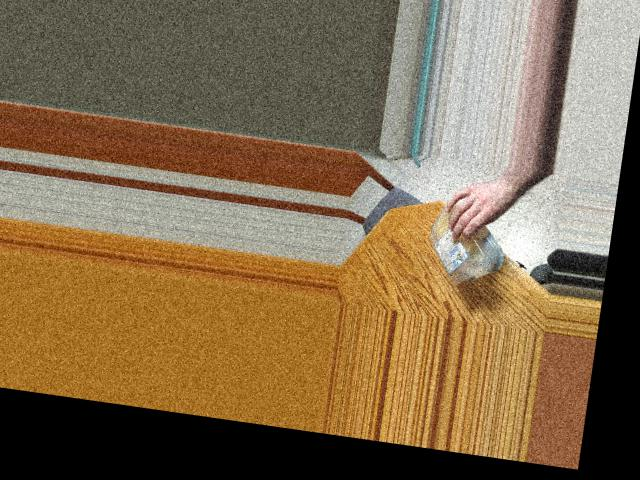cheese: (423, 188, 510, 289)
